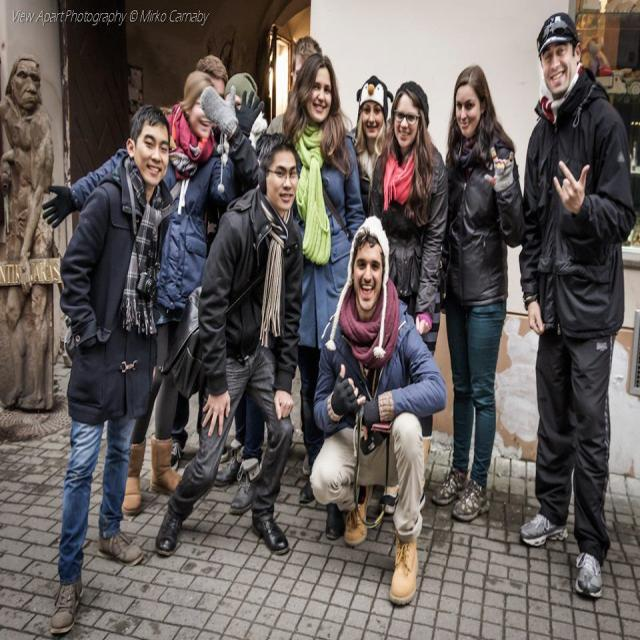body: (41, 71, 268, 517), (46, 96, 181, 639), (515, 9, 637, 604), (152, 128, 302, 563), (307, 211, 451, 612), (431, 61, 527, 526), (280, 50, 367, 544), (365, 78, 451, 516), (0, 53, 55, 415), (347, 72, 395, 221), (575, 2, 632, 84), (172, 388, 231, 466), (222, 70, 270, 158), (200, 51, 227, 94), (295, 32, 319, 80)
